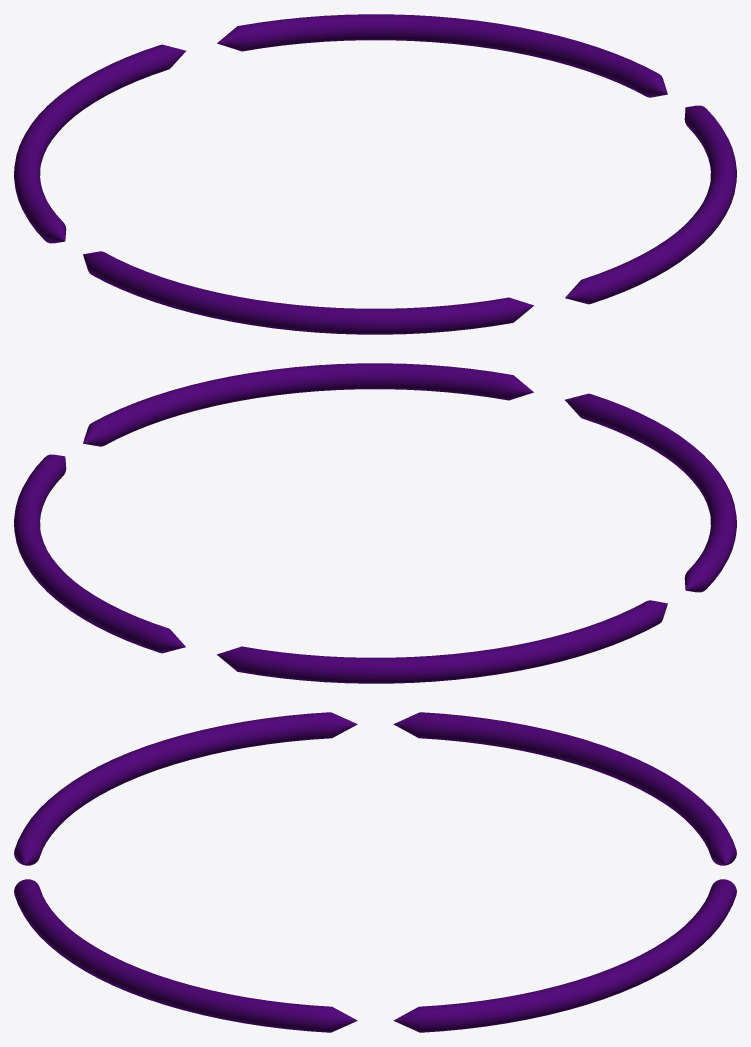
Rendered from Ring 1.gltf.
3 renders of one model, top to bottom at view 1: azimuth 30°, elevation 25°; view 2: azimuth 150°, elevation 25°; view 3: azimuth 270°, elevation 25°, orthographic.
Visible parts, largest first — view 1: Object; view 2: Object; view 3: Object.
Boxes of the visible parts, bbox=[...] form: Object: bbox=[14, 14, 736, 334]; Object: bbox=[14, 363, 736, 683]; Object: bbox=[14, 712, 736, 1032].
Size of the model in its own units: 0.1647 by 0.006 by 0.1647.
